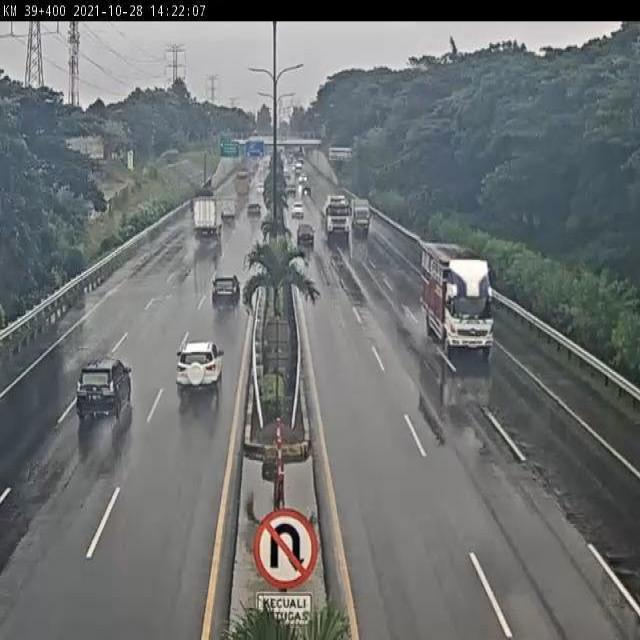car: (70, 357, 133, 428), (172, 336, 222, 396), (207, 270, 240, 310), (244, 199, 264, 224), (296, 219, 315, 244), (290, 197, 307, 220)
truck-l-: (415, 240, 493, 355), (189, 198, 221, 242)
truck-s-: (351, 192, 372, 235), (218, 200, 239, 227)
truck-xl-: (320, 193, 351, 235)
